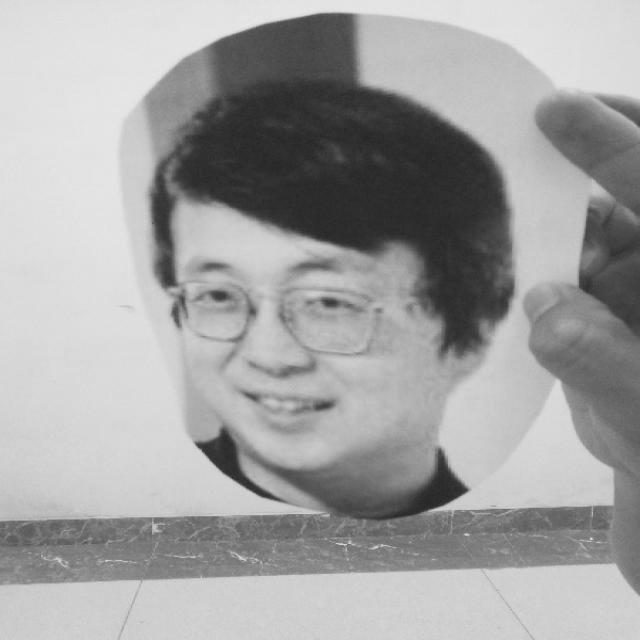fake: (102, 3, 640, 523)
